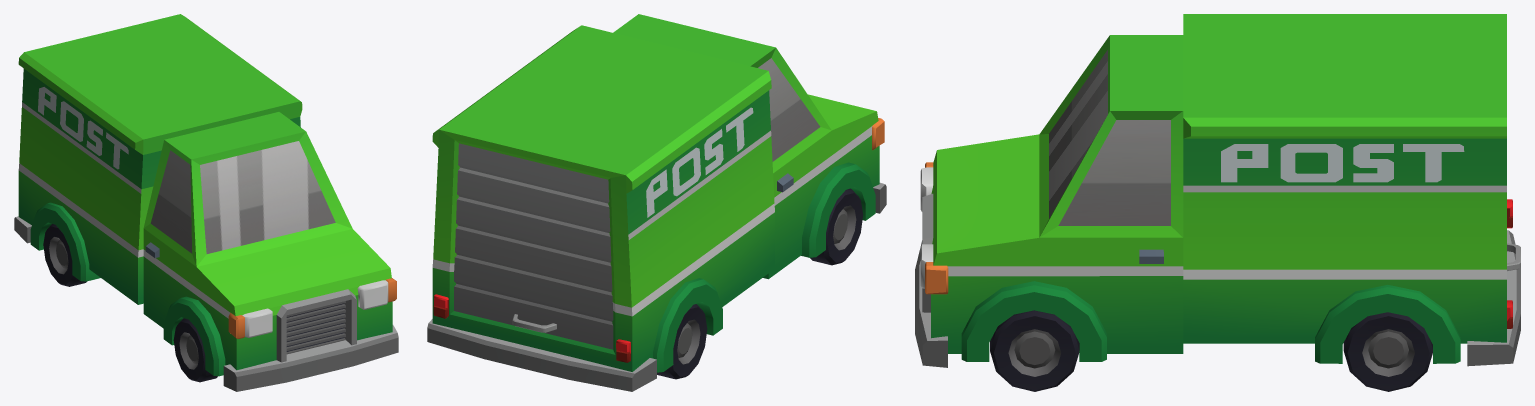
Rendered from PostCar_2.glb.
3 views of the same model, side by side, from view 1: azimuth 30°, elevation 25°; view 2: azimuth 150°, elevation 25°; view 3: azimuth 270°, elevation 25° (orthographic). The views are drawn at different scales.
Visible parts, largest first — view 1: PostCar_2, Wheel_FR, Wheel_BR; view 2: PostCar_2, Wheel_FR, Wheel_BR; view 3: PostCar_2, Wheel_FL, Wheel_BL.
Part boxes in pixels (x1,y1,x2,y2): PostCar_2: (14,14,398,391); Wheel_FR: (173,318,217,382); Wheel_BR: (43,224,86,286); PostCar_2: (427,14,886,391); Wheel_FR: (810,188,863,265); Wheel_BR: (657,304,707,379); PostCar_2: (915,14,1520,367); Wheel_FL: (990,310,1079,391); Wheel_BL: (1343,312,1432,391).
Size of the model in its own units: 1.18 by 1.24 by 2.51.
5 materials, 5 textured.
